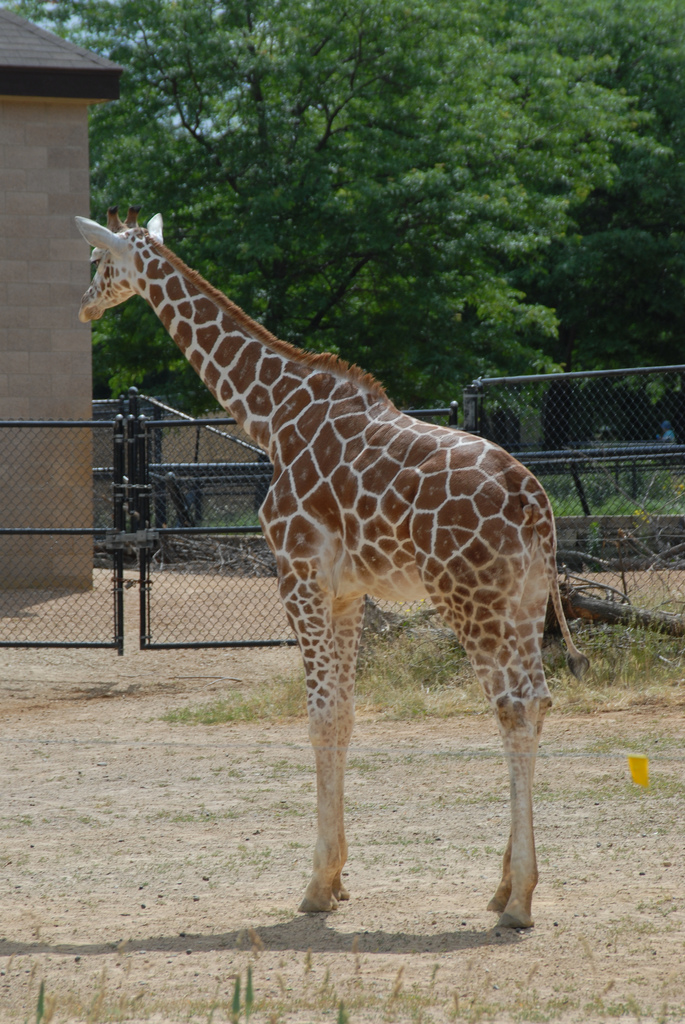giraffe: (64, 184, 585, 968)
